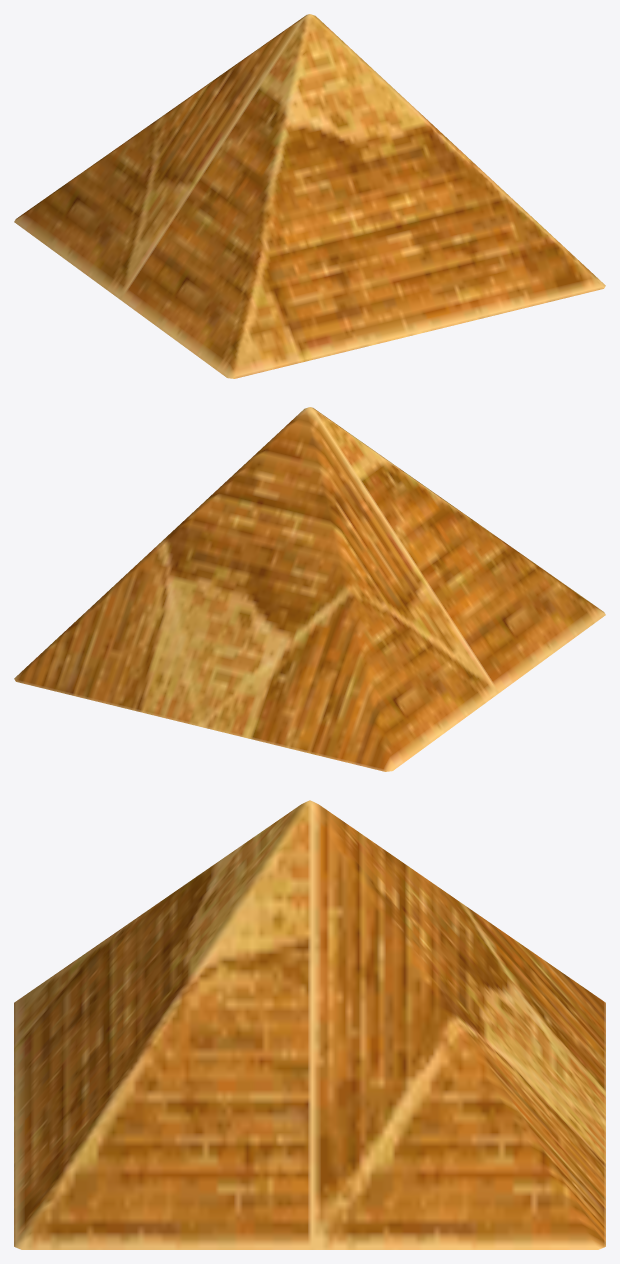
File: int_oth_pyramid.dae
3 renders of one model, top to bottom at view 1: azimuth 30°, elevation 25°; view 2: azimuth 150°, elevation 25°; view 3: azimuth 270°, elevation 25°, orthographic. The views are drawn at different scales.
Parts seen in each view (by area): view 1: int_oth_pyramid; view 2: int_oth_pyramid; view 3: int_oth_pyramid.
Part boxes in pixels (box(x1,y1,x2,y2)): int_oth_pyramid: box(14, 14, 605, 378); int_oth_pyramid: box(14, 407, 605, 771); int_oth_pyramid: box(14, 800, 605, 1249).
Bounding box in the file's own units: 52 × 31.46 × 52.
Materials: 1 (1 with a texture image).
